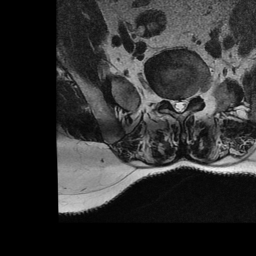CCS_severe_stenosis: (176, 92, 182, 116)
LFS_severe_stenosis: (189, 87, 195, 106)
LLS_normal: (182, 92, 189, 114)
RFS_severe_stenosis: (163, 90, 169, 109)
RLS_normal: (170, 92, 176, 113)
